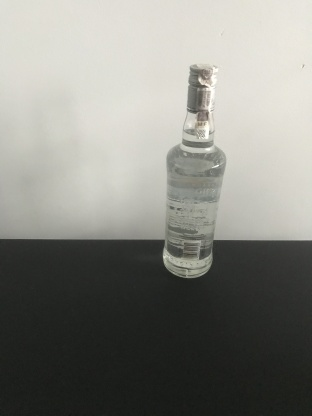nakretka: (185, 61, 219, 114)
